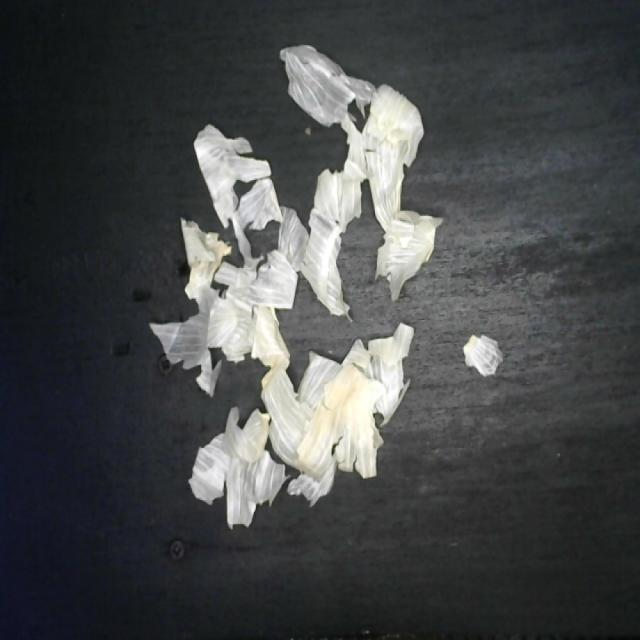biodegradable: (144, 39, 451, 538)
